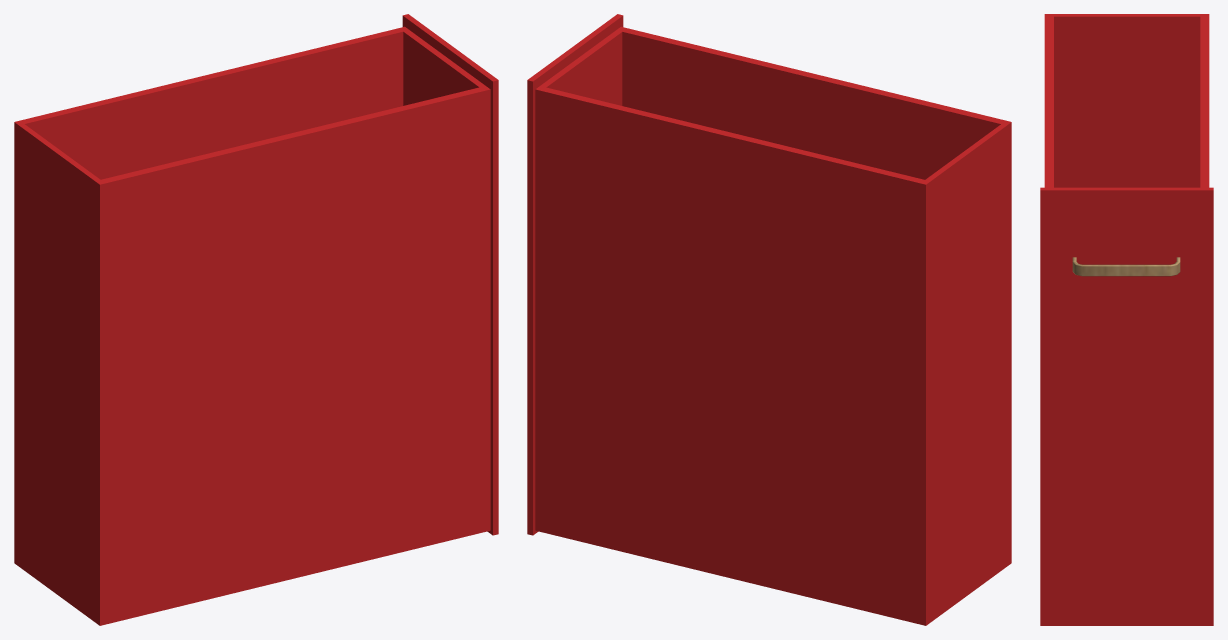
Rendered from MOD_Kitchen_counter_drawer_02.fbx.
3 renders of one model, left to right at view 1: azimuth 30°, elevation 25°; view 2: azimuth 150°, elevation 25°; view 3: azimuth 270°, elevation 25°, orthographic. The views are drawn at different scales.
Parts seen in each view (by area): view 1: HSHP_MOD_Kitchen_counter_drawer_02; view 2: HSHP_MOD_Kitchen_counter_drawer_02; view 3: HSHP_MOD_Kitchen_counter_drawer_02.
Boxes of the visible parts, <box> form: HSHP_MOD_Kitchen_counter_drawer_02: <box>14,14,498,625</box>; HSHP_MOD_Kitchen_counter_drawer_02: <box>527,14,1011,625</box>; HSHP_MOD_Kitchen_counter_drawer_02: <box>1040,14,1213,625</box>.
Bounding box in the file's own units: 0.7794 × 0.8152 × 0.2941.
